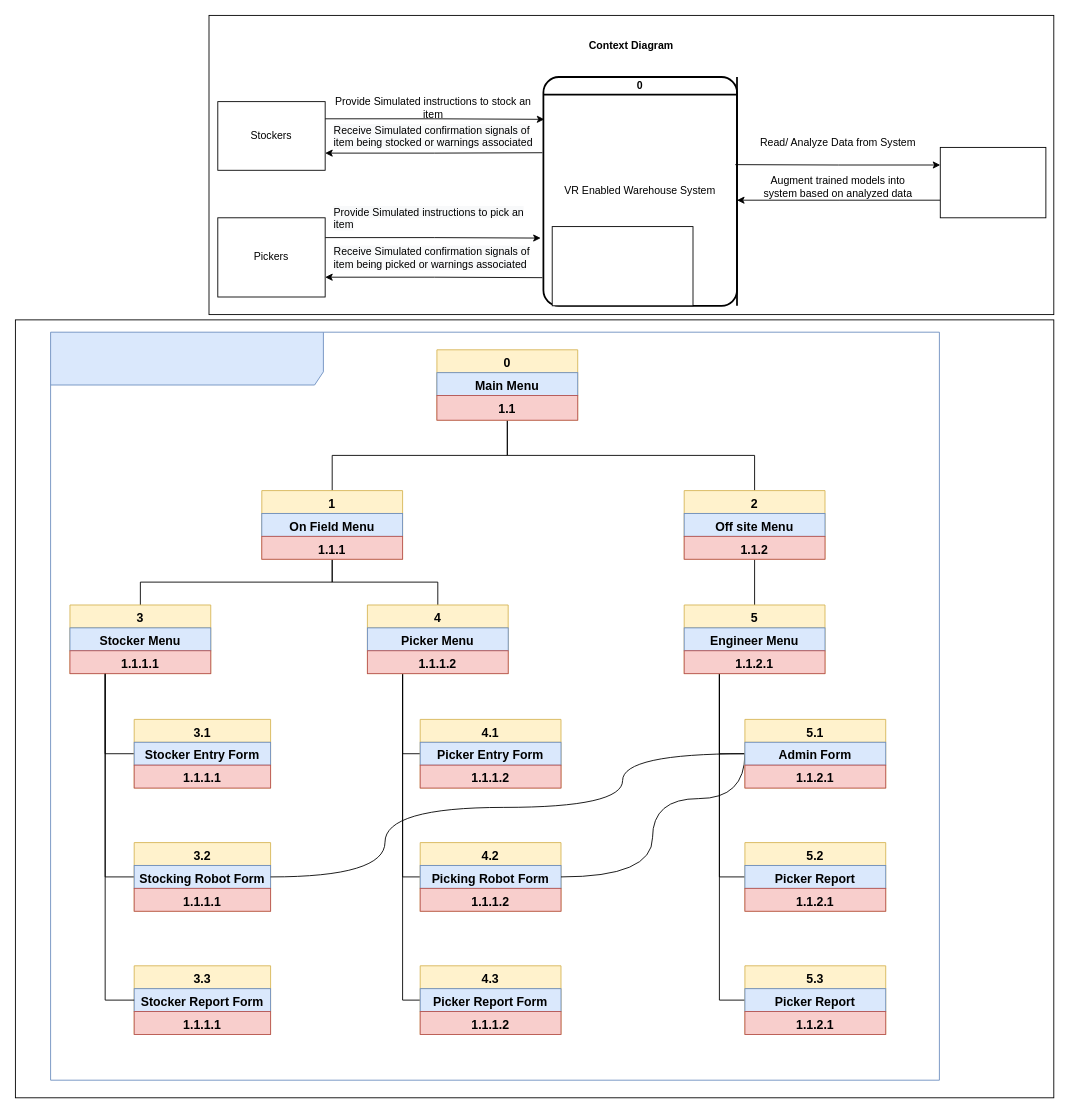
The diagram is 1069 pixels wide and 1113 high, and some of its shapes have lost their labels. The shapes that lost their labels are listed below. From the top down, each one's box as (x1, y1, x2, y2) in pixels, then its label:
(939, 147, 1046, 218): Engineers ( Machine Learning, Software, Hardware)
(551, 226, 693, 306): Class + field: Type + method(): Type
(50, 331, 939, 1080): VR Robot Interface Structure Diagram
